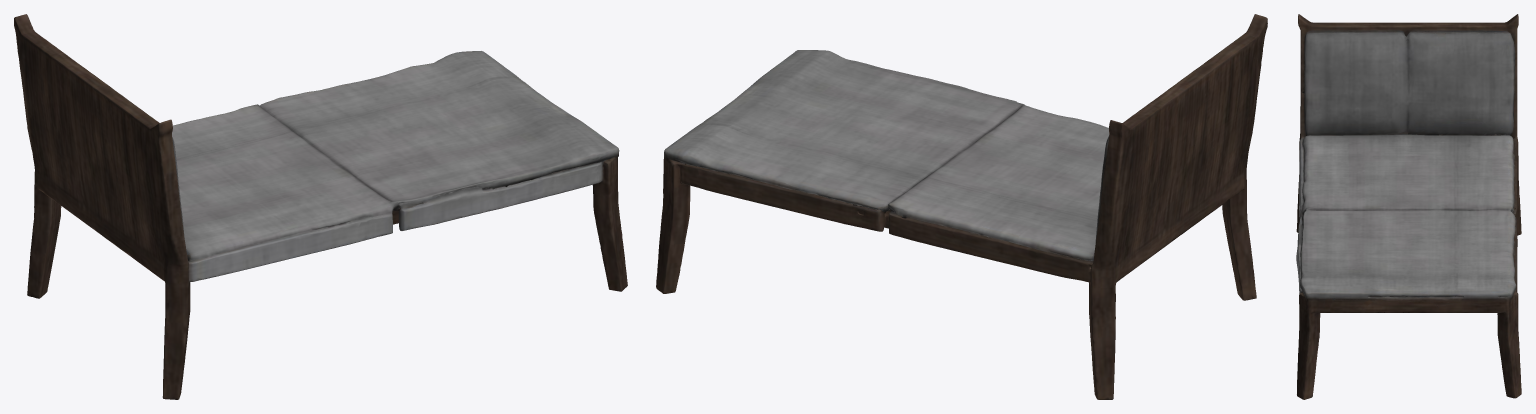
The model's file is grey_3.glb.
The picture shows the model from 3 angles, left to right: view 1: azimuth 30°, elevation 25°; view 2: azimuth 150°, elevation 25°; view 3: azimuth 270°, elevation 25°; orthographic projection. The views are drawn at different scales.
Parts seen in each view (by area): view 1: geometry_0; view 2: geometry_0; view 3: geometry_0.
Boxes of the visible parts, x1,y1,x2,y2 form: geometry_0: [14, 14, 627, 399]; geometry_0: [656, 14, 1267, 399]; geometry_0: [1296, 14, 1521, 399].
Bounding box in the file's own units: 0.9873 × 0.5615 × 0.5389.
Materials: 1 (1 with a texture image).
